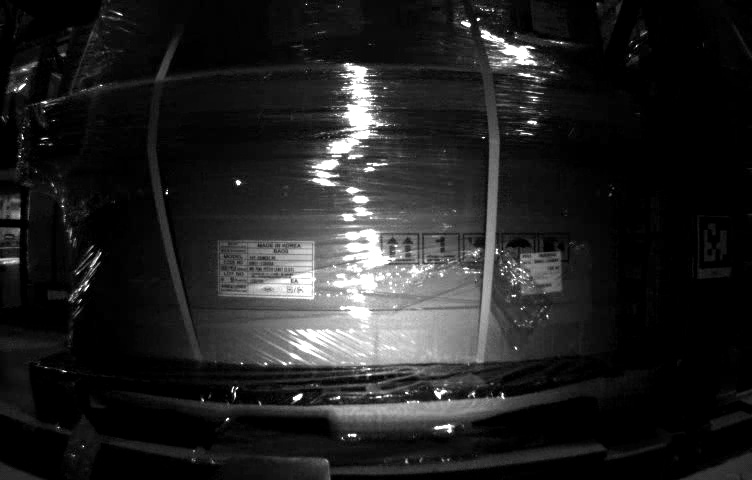True Barcode: (518, 250, 564, 292)
